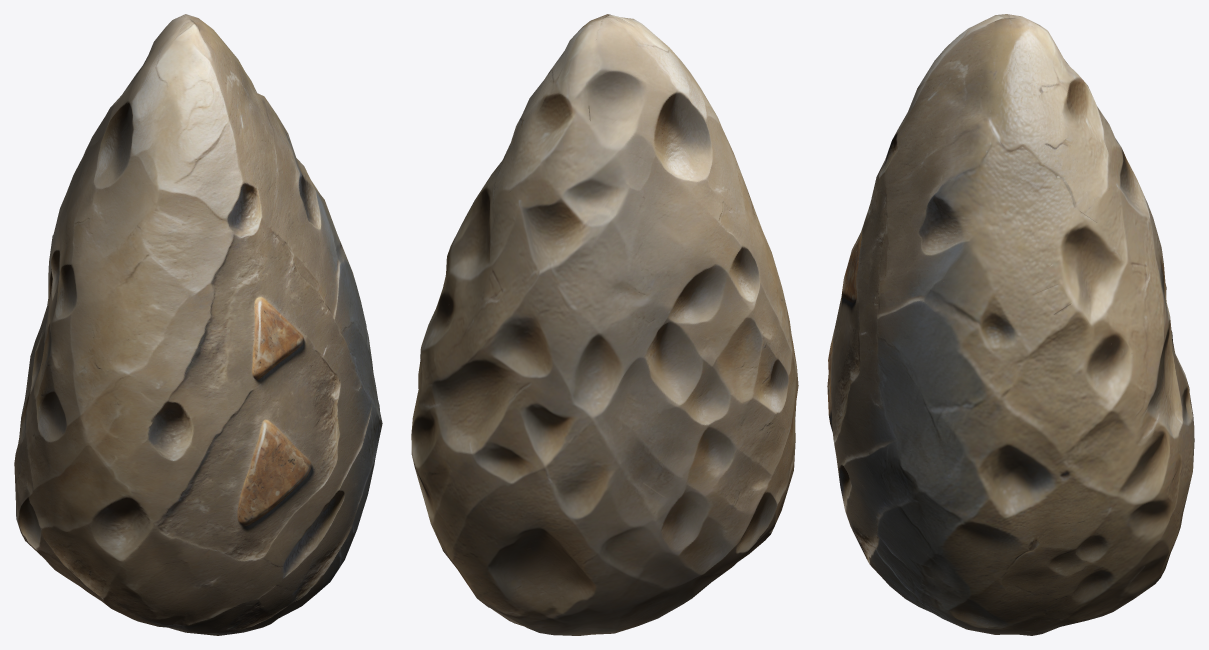
The model's file is hand_axe.glb.
3 views of the same model, side by side, from view 1: azimuth 30°, elevation 25°; view 2: azimuth 150°, elevation 25°; view 3: azimuth 270°, elevation 25° (orthographic).
Bounding box in the file's own units: 1.16 × 2.01 × 1.14.
Materials: 1 (1 with a texture image).
